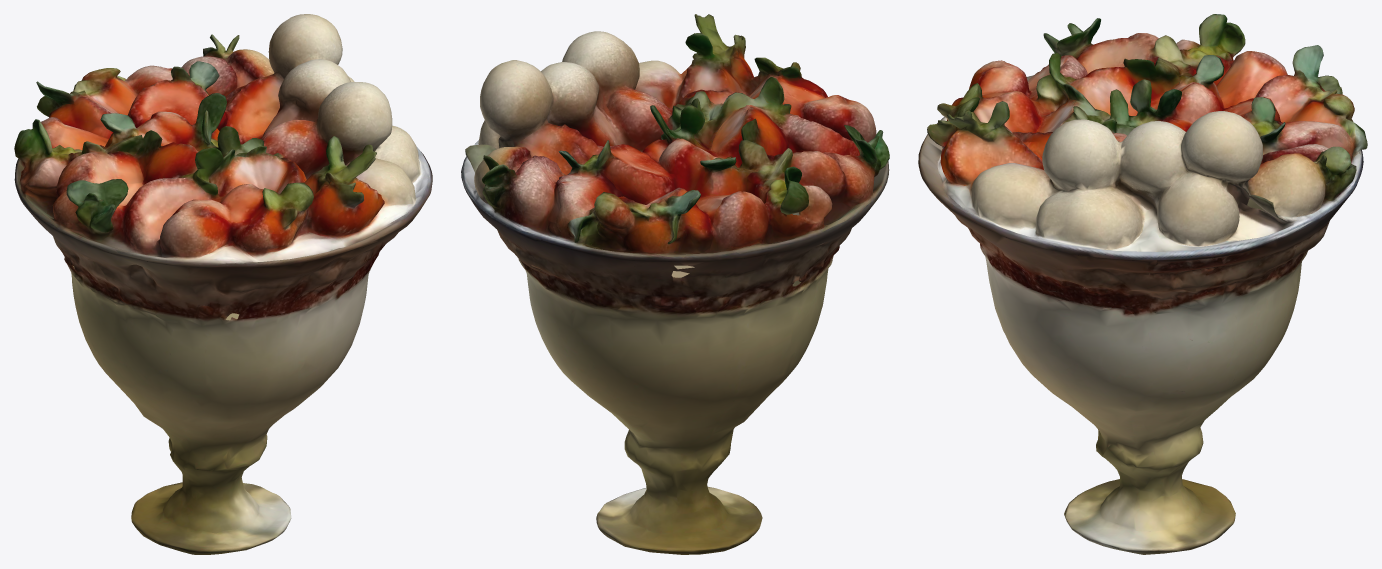
Rendered from taca-morangos-docinhos.glb.
The picture shows the model from 3 angles, left to right: view 1: azimuth 30°, elevation 25°; view 2: azimuth 150°, elevation 25°; view 3: azimuth 270°, elevation 25°; orthographic projection. The views are drawn at different scales.
Parts seen in each view (by area): view 1: world; view 2: world; view 3: world.
Boxes of the visible parts, <box> form: world: <box>14,14,432,554</box>; world: <box>461,14,889,554</box>; world: <box>918,14,1367,554</box>.
Bounding box in the file's own units: 0.2461 × 0.2932 × 0.25.
Materials: 1 (1 with a texture image).
